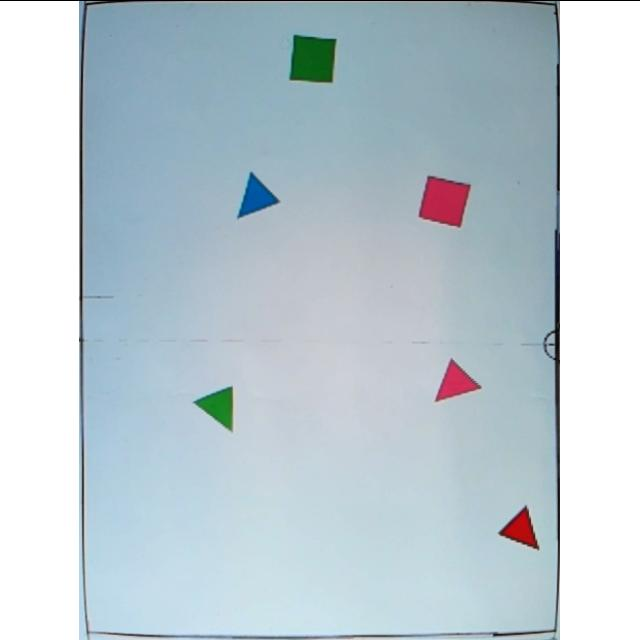blueTriangle: (236, 170, 280, 220)
greenSquare: (290, 32, 340, 84)
greenTriangle: (196, 385, 237, 433)
pinkSquare: (420, 175, 474, 228)
pinkTriangle: (434, 356, 484, 404)
redTriangle: (498, 506, 542, 550)
